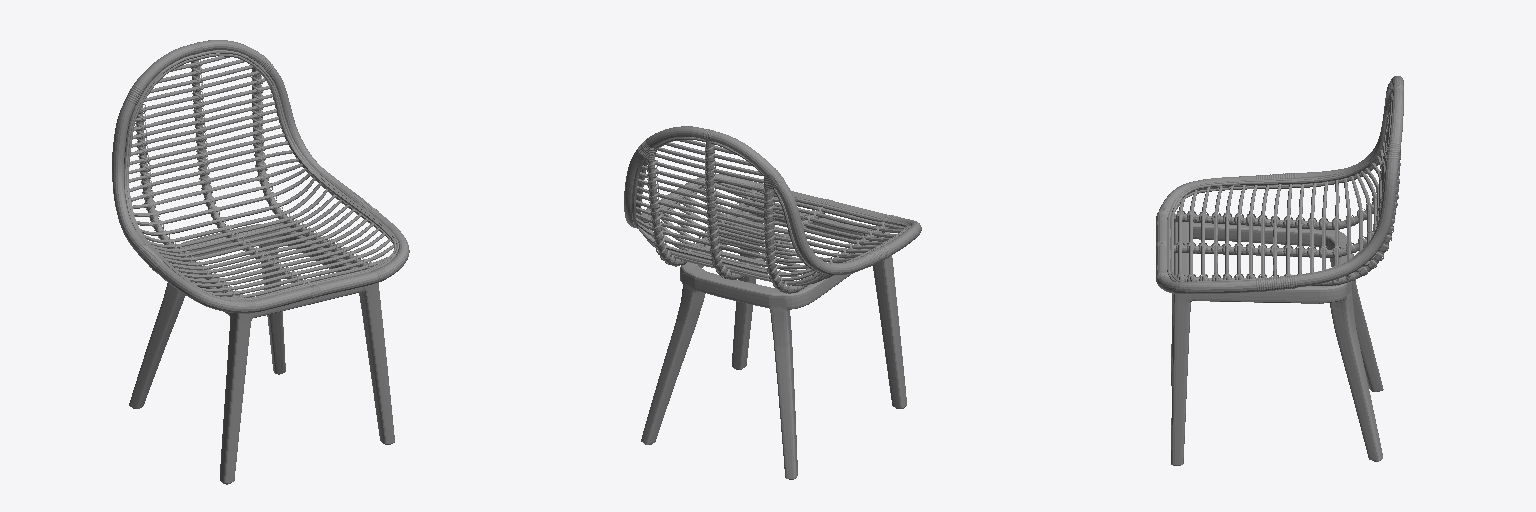
Rendered from chair.obj.
3 renders of one model, left to right at view 1: azimuth 30°, elevation 25°; view 2: azimuth 150°, elevation 25°; view 3: azimuth 270°, elevation 25°, orthographic.
Visible parts, largest first — view 1: Chair; view 2: Chair; view 3: Chair.
Part boxes in pixels (left/top/right/bottom): Chair: left=112, top=40, right=409, bottom=484; Chair: left=624, top=126, right=921, bottom=479; Chair: left=1156, top=76, right=1403, bottom=465.
Size of the model in its own units: 61.02 by 88.08 by 58.64.